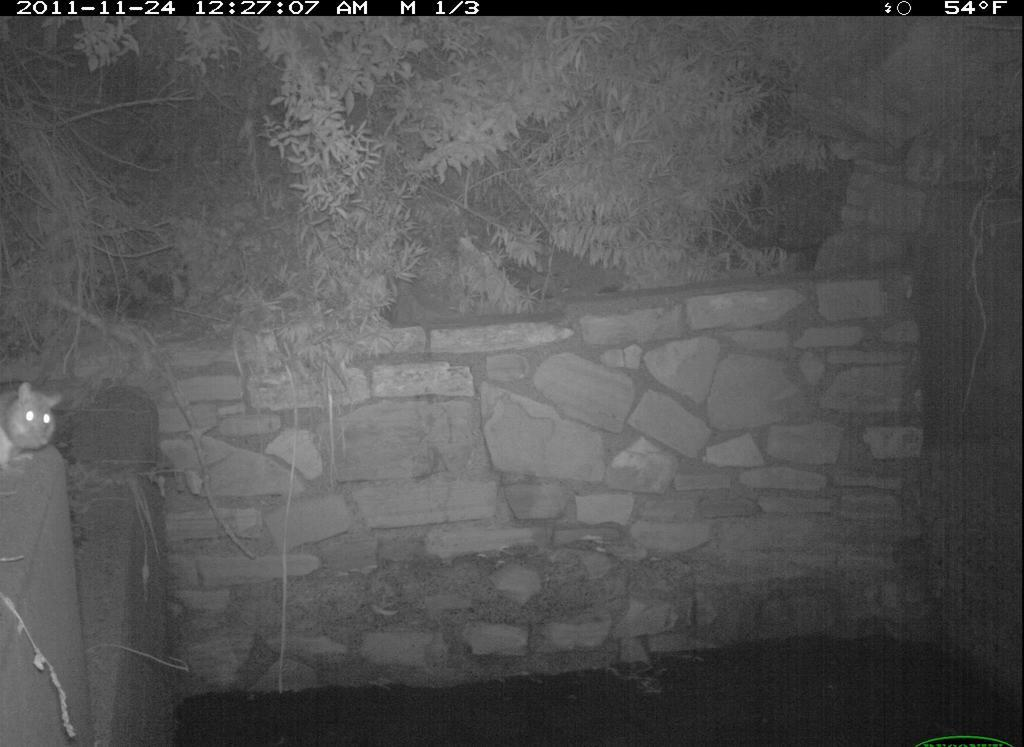rodent: (3, 359, 70, 482)
